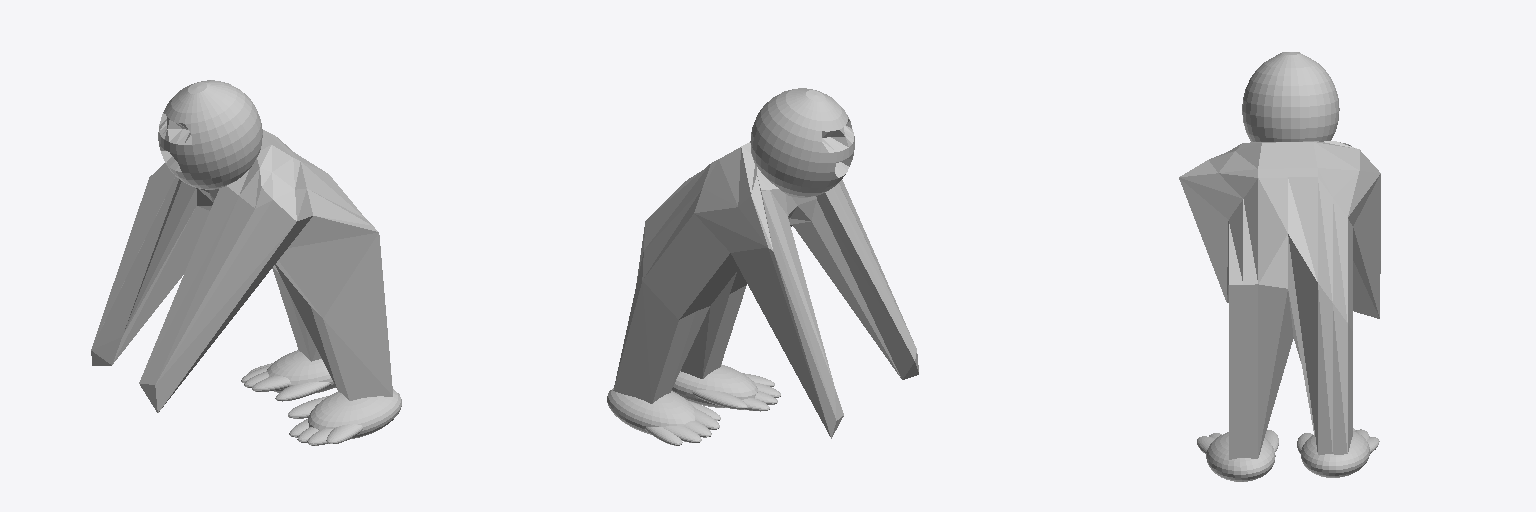
File: Gorilla.obj
3 renders of one model, left to right at view 1: azimuth 30°, elevation 25°; view 2: azimuth 150°, elevation 25°; view 3: azimuth 270°, elevation 25°, orthographic.
Visible parts, largest first — view 1: 球; view 2: 球; view 3: 球.
Boxes of the visible parts, box(x1,y1,x2,y2) form: 球: box(91, 80, 401, 445); 球: box(607, 88, 918, 445); 球: box(1179, 52, 1380, 481).
Size of the model in its own units: 7.83 by 10.17 by 5.2.